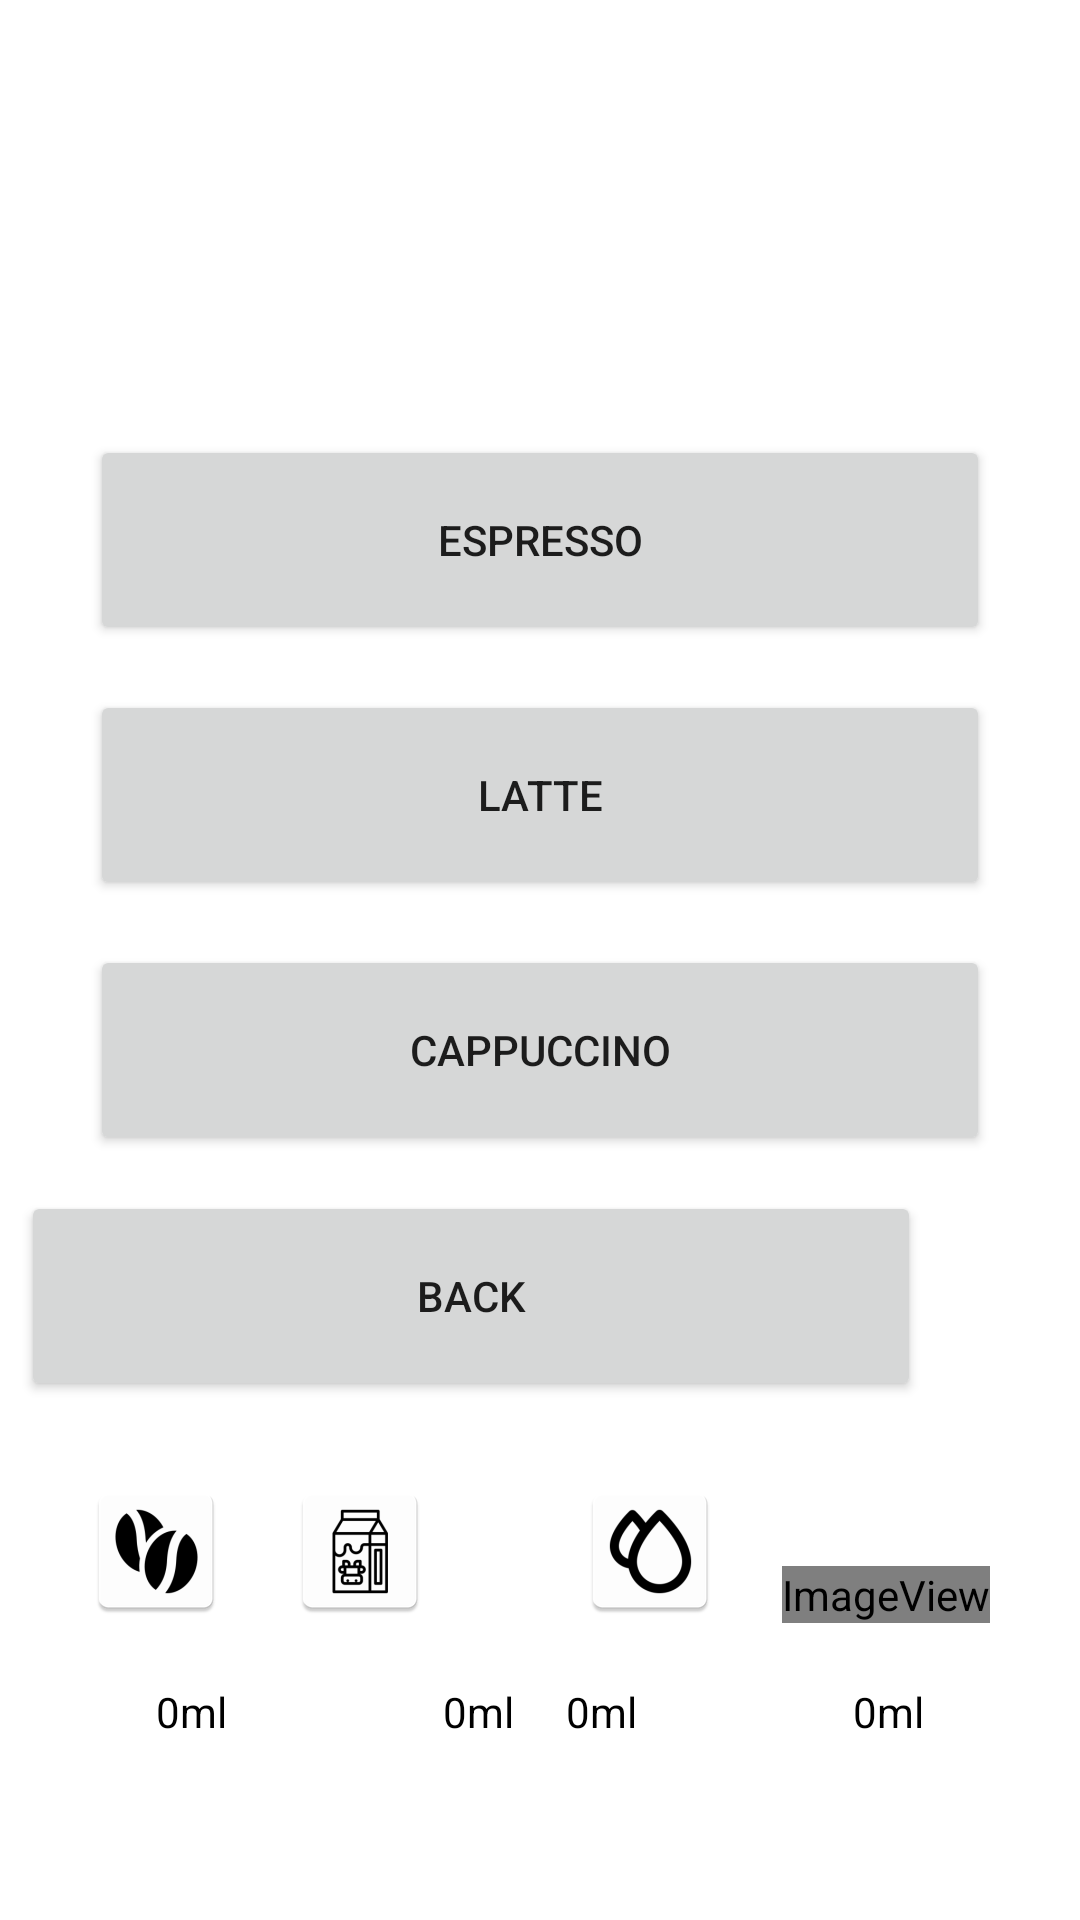

Screen size 1080x1920. Icon name, then its center in pixels as point (x, y):
coffee beans: point (156, 1556)
milk: point (360, 1556)
water: point (650, 1556)
